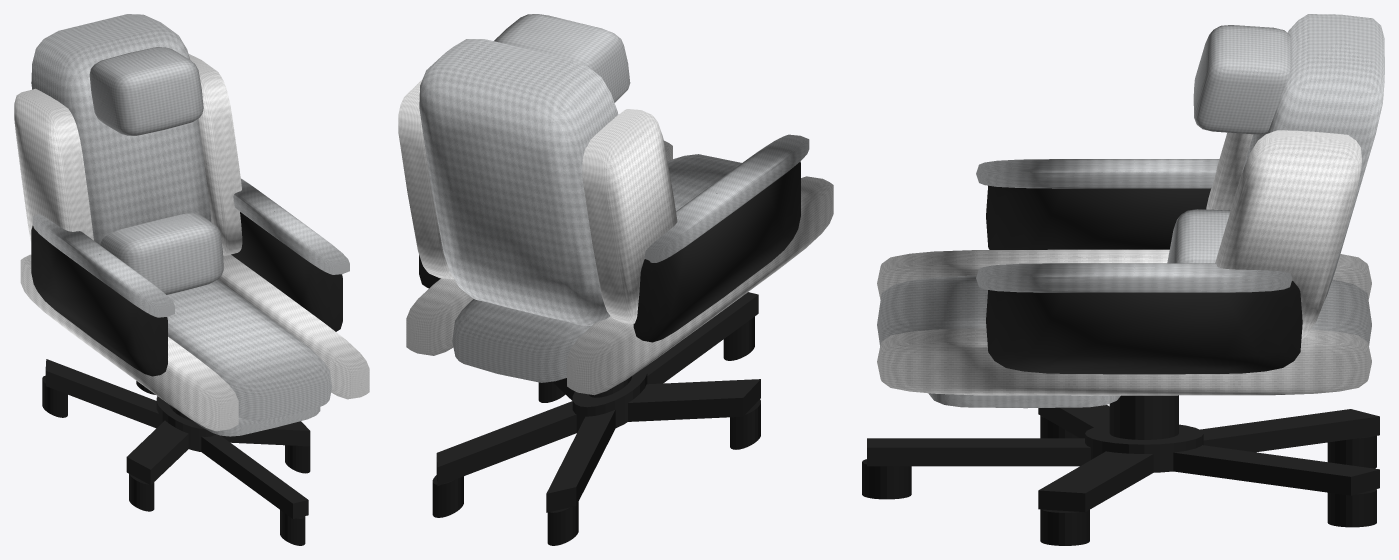
3 views of the same model, side by side, from view 1: azimuth 30°, elevation 25°; view 2: azimuth 150°, elevation 25°; view 3: azimuth 270°, elevation 25° (orthographic). The views are drawn at different scales.
Visible parts, largest first — view 1: 5 backrest, 1 seat, 10 armrest_frame_left, 6 backrest_bolster_left, 8 headrest, 9 lumbar_pillow, 2 seat_bolster_left, 3 seat_bolster_right, 7 backrest_bolster_right, 12 armrest_frame_right, 11 armrest_pad_left, 13 armrest_pad_right (+10 smaller); view 2: 5 backrest, 6 backrest_bolster_left, 10 armrest_frame_left, 1 seat, 2 seat_bolster_left, 11 armrest_pad_left, 8 headrest, 18 base_spoke_3, 20 base_spoke_5, 7 backrest_bolster_right, 3 seat_bolster_right, 19 base_spoke_4 (+6 smaller); view 3: 12 armrest_frame_right, 3 seat_bolster_right, 7 backrest_bolster_right, 10 armrest_frame_left, 5 backrest, 8 headrest, 13 armrest_pad_right, 1 seat, 11 armrest_pad_left, 2 seat_bolster_left, 16 base_spoke_1, 18 base_spoke_3 (+12 smaller).
Part boxes in pixels (x1,y1,x2,y2): 5 backrest: (31,14,211,244); 1 seat: (167,279,332,421); 10 armrest_frame_left: (31,225,167,376); 6 backrest_bolster_left: (14,88,93,242); 8 headrest: (89,47,203,135); 9 lumbar_pillow: (100,213,223,294); 2 seat_bolster_left: (20,254,238,431); 3 seat_bolster_right: (218,254,369,399); 7 backrest_bolster_right: (188,54,242,255); 12 armrest_frame_right: (231,211,342,331); 11 armrest_pad_left: (32,214,174,317); 13 armrest_pad_right: (233,178,349,274); 5 backrest: (419,39,618,325); 6 backrest_bolster_left: (582,109,677,323); 10 armrest_frame_left: (633,161,800,342); 1 seat: (452,154,741,382); 2 seat_bolster_left: (567,176,833,395); 11 armrest_pad_left: (644,134,809,262); 8 headrest: (494,14,630,102); 18 base_spoke_3: (436,401,576,486); 20 base_spoke_5: (628,379,760,421); 7 backrest_bolster_right: (398,79,453,279); 3 seat_bolster_right: (406,140,672,355); 19 base_spoke_4: (546,410,615,512); 12 armrest_frame_right: (986,281,1302,374); 3 seat_bolster_right: (877,328,1371,395); 7 backrest_bolster_right: (1215,130,1361,339); 10 armrest_frame_left: (986,185,1210,249); 5 backrest: (1242,14,1384,300); 8 headrest: (1193,25,1291,134); 13 armrest_pad_right: (976,263,1292,292); 1 seat: (877,275,1371,346); 11 armrest_pad_left: (976,159,1219,188); 2 seat_bolster_left: (877,249,1371,299); 16 base_spoke_1: (867,438,1090,466); 18 base_spoke_3: (1173,445,1379,495).
Bounding box in the file's own units: 0.7396 × 1.32 × 1.37.
5 materials, 2 textured.
